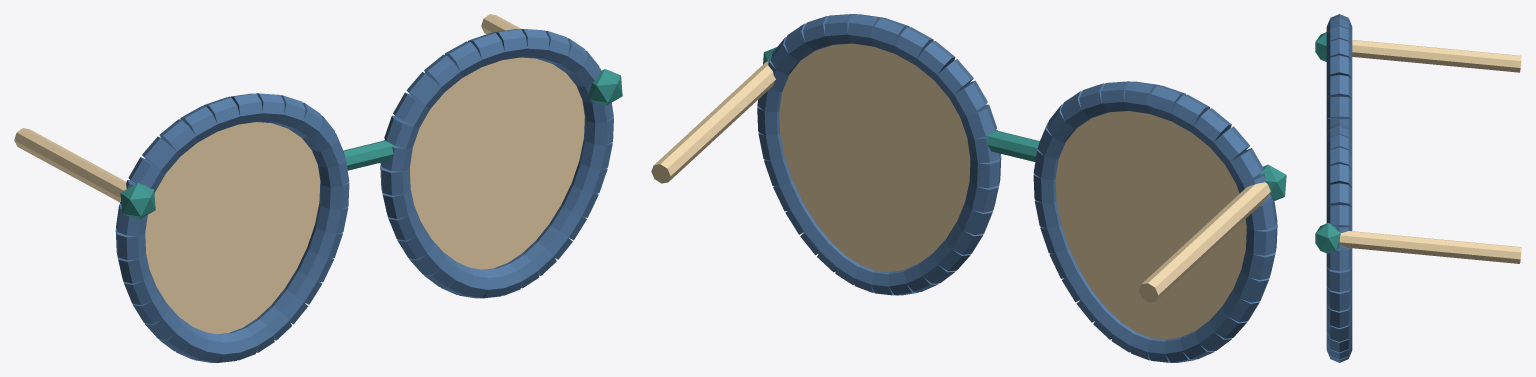
Rendered from eyewear_aviator.glb.
3 renders of one model, left to right at view 1: azimuth 30°, elevation 25°; view 2: azimuth 150°, elevation 25°; view 3: azimuth 270°, elevation 25°, orthographic. The views are drawn at different scales.
Parts seen in each view (by area): view 1: wearable; view 2: wearable; view 3: wearable.
Boxes of the visible parts, x1,y1,x2,y2 form: wearable: [14, 14, 622, 362]; wearable: [651, 14, 1286, 362]; wearable: [1315, 14, 1521, 362].
Bounding box in the file's own units: 0.6411 × 0.3238 × 0.2733.
